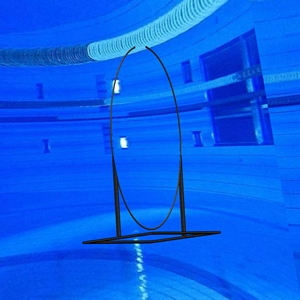circle: (82, 46, 223, 245)
